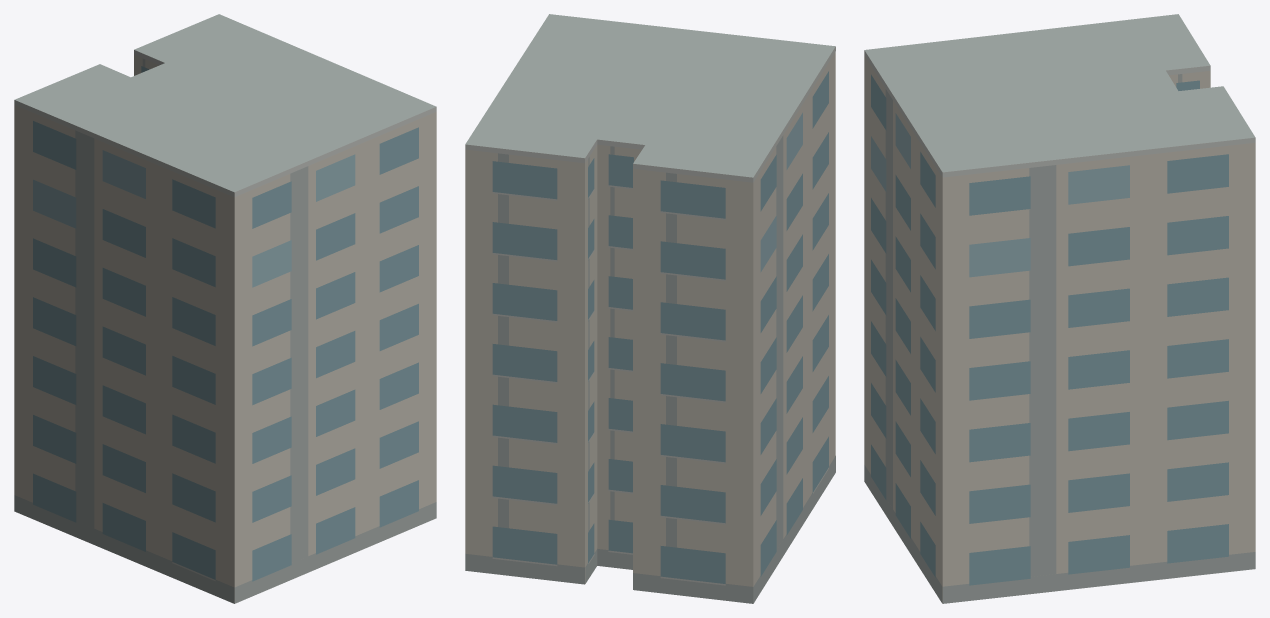
Rendered from survey-upis-32925677.glb.
3 views of the same model, side by side, from view 1: azimuth 30°, elevation 25°; view 2: azimuth 150°, elevation 25°; view 3: azimuth 270°, elevation 25° (orthographic). The views are drawn at different scales.
Parts seen in each view (by area): view 1: survey-upis-32925677.tmp; view 2: survey-upis-32925677.tmp; view 3: survey-upis-32925677.tmp.
Boxes of the visible parts, x1,y1,x2,y2 form: survey-upis-32925677.tmp: (14,14,436,603); survey-upis-32925677.tmp: (465,14,835,603); survey-upis-32925677.tmp: (864,14,1255,603).
Size of the model in its own units: 15.99 by 20.3 by 16.69.
